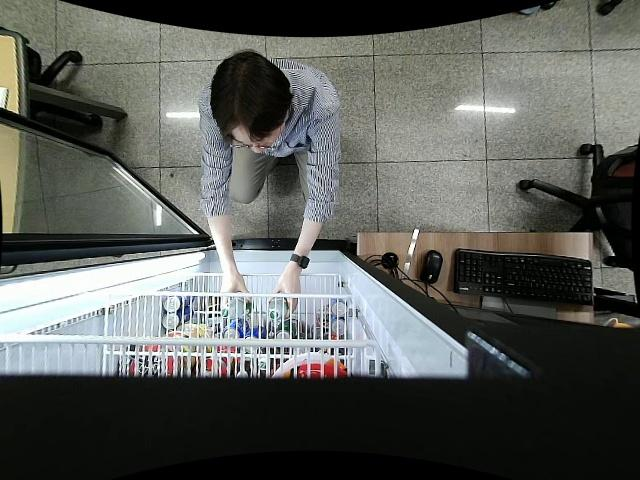00_hand: (268, 277, 301, 317), (219, 278, 254, 306)
18_trevi: (221, 298, 251, 318), (265, 299, 290, 321)
